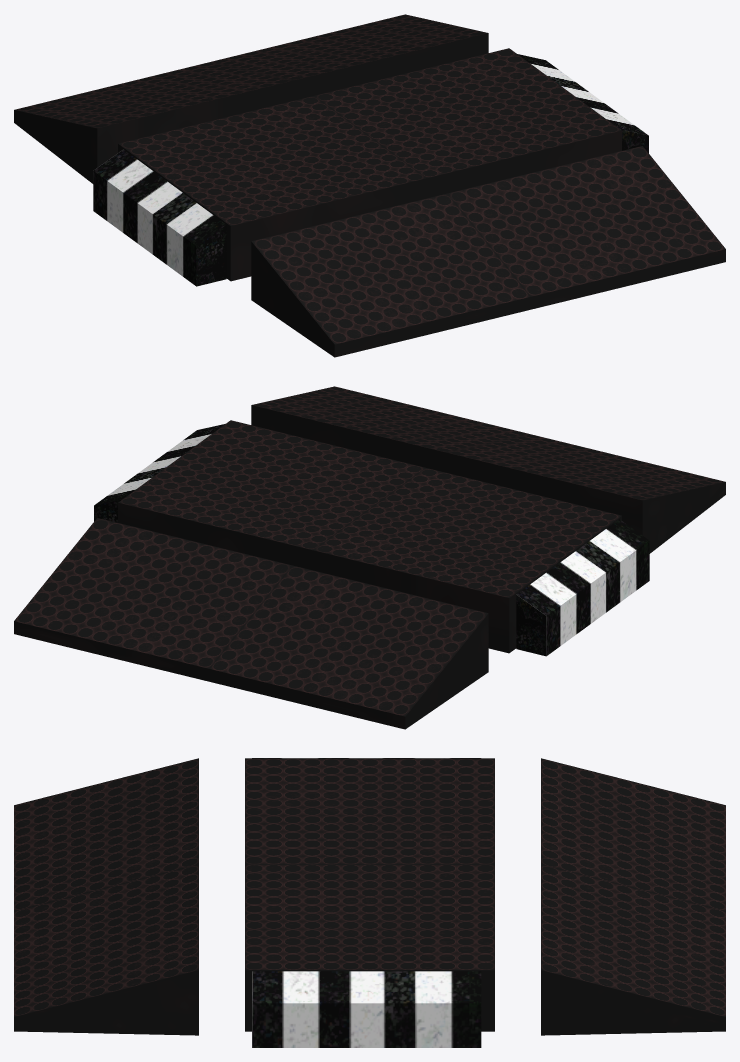
Rendered from perehod.fbx.
3 views of the same model, one above another, from view 1: azimuth 30°, elevation 25°; view 2: azimuth 150°, elevation 25°; view 3: azimuth 270°, elevation 25° (orthographic). The views are drawn at different scales.
Visible parts, largest first — view 1: 1_low; view 2: 1_low; view 3: 1_low.
Part boxes in pixels (x1,y1,x2,y2): 1_low: (14, 14, 725, 357); 1_low: (14, 386, 725, 729); 1_low: (14, 758, 725, 1047).
Size of the model in its own units: 295 by 36.68 by 362.
